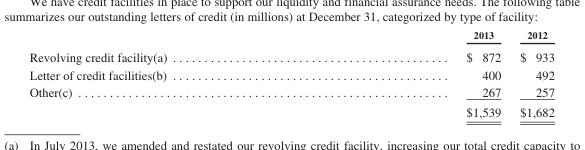table: (28, 28, 553, 119)
table column: (28, 28, 315, 119), (315, 28, 509, 119), (509, 28, 553, 119)
table column header: (28, 28, 553, 44)
table row: (28, 44, 553, 65), (28, 65, 553, 83), (28, 83, 553, 101), (28, 101, 553, 119), (28, 28, 553, 44)
